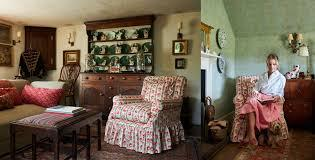chair: (103, 75, 188, 159), (234, 74, 286, 143), (14, 47, 44, 81), (57, 63, 83, 102)
light: (297, 44, 309, 78), (10, 27, 23, 46), (67, 27, 77, 46), (176, 20, 184, 40), (296, 32, 304, 48), (286, 33, 294, 47)
sofa: (0, 79, 65, 157)
table: (8, 108, 111, 159), (283, 78, 315, 120)
